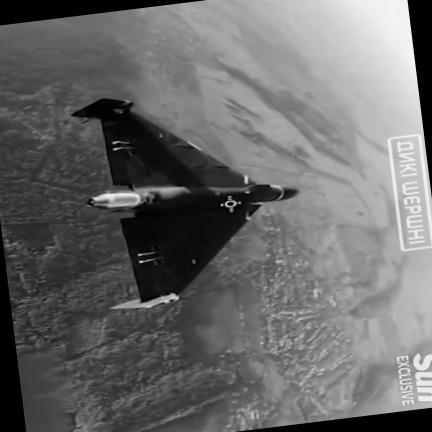Shahed: (71, 98, 298, 309)
